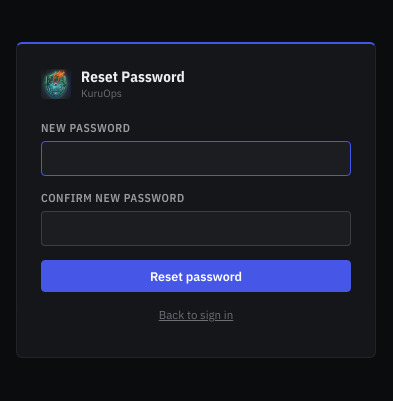
Test: ResetPasswordPage › shows the server's error for an invalid or expired token
Type "NewPassword123!" into the password field labelled "New password" at (196, 159), box [41,141,351,176]
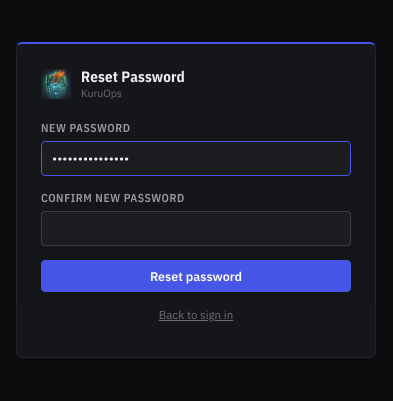
Type "NewPassword123!" into the password field labelled "Confirm new password" at (196, 229), box [41,211,351,246]
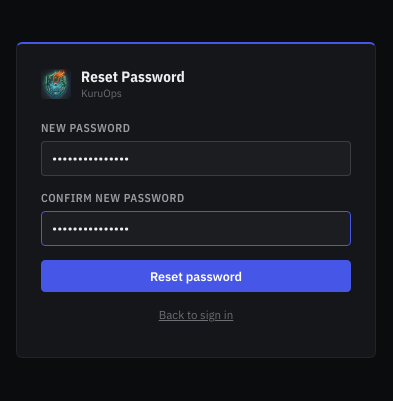
Click the button "Reset password" at (196, 276), box [41,260,351,292]
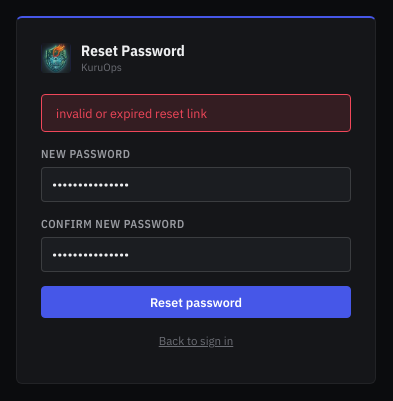
expect the text "invalid or expired reset link" is shown: met, box [41,94,351,132]
